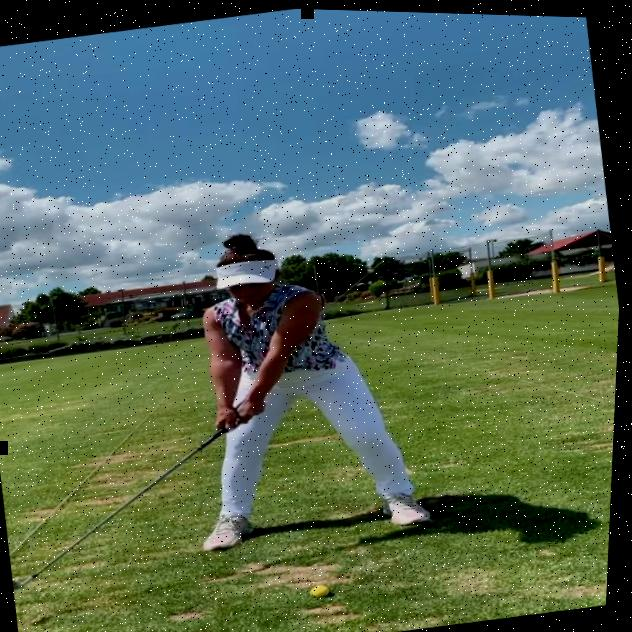ClubHead: (17, 574, 31, 588)
GolfBall: (315, 581, 335, 595)
